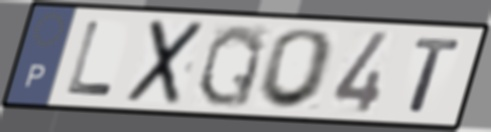4: (328, 28, 392, 117)
L: (64, 18, 117, 98)
O: (254, 27, 339, 112)
Q: (193, 21, 268, 109)
T: (406, 34, 464, 115)
X: (121, 17, 209, 107)
